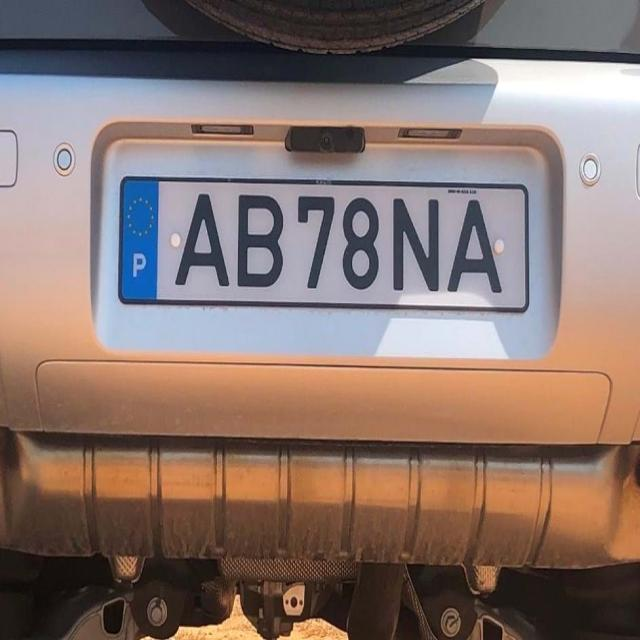portuguese-license-plates: (117, 175, 531, 318)
